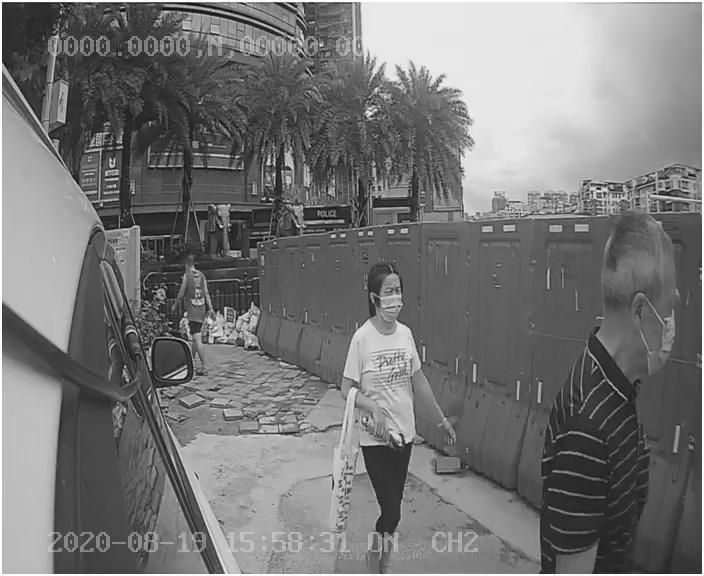person: (319, 256, 461, 529)
